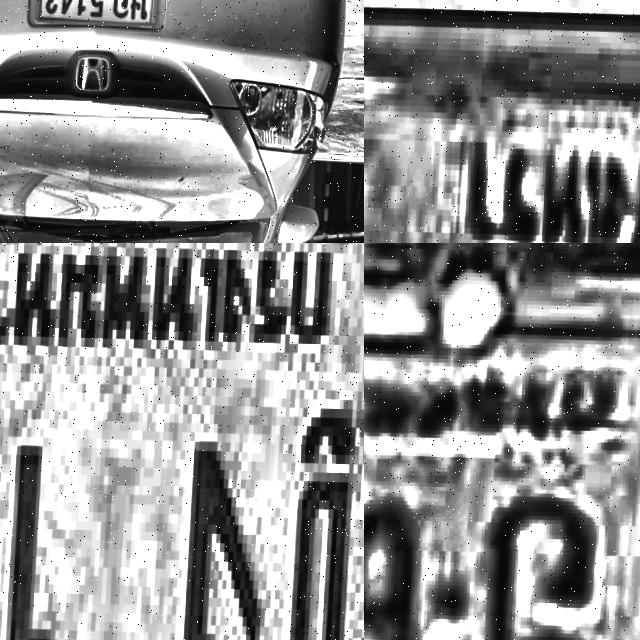license-plate: (0, 243, 364, 640), (364, 245, 640, 640), (364, 8, 640, 243), (30, 0, 163, 40)
